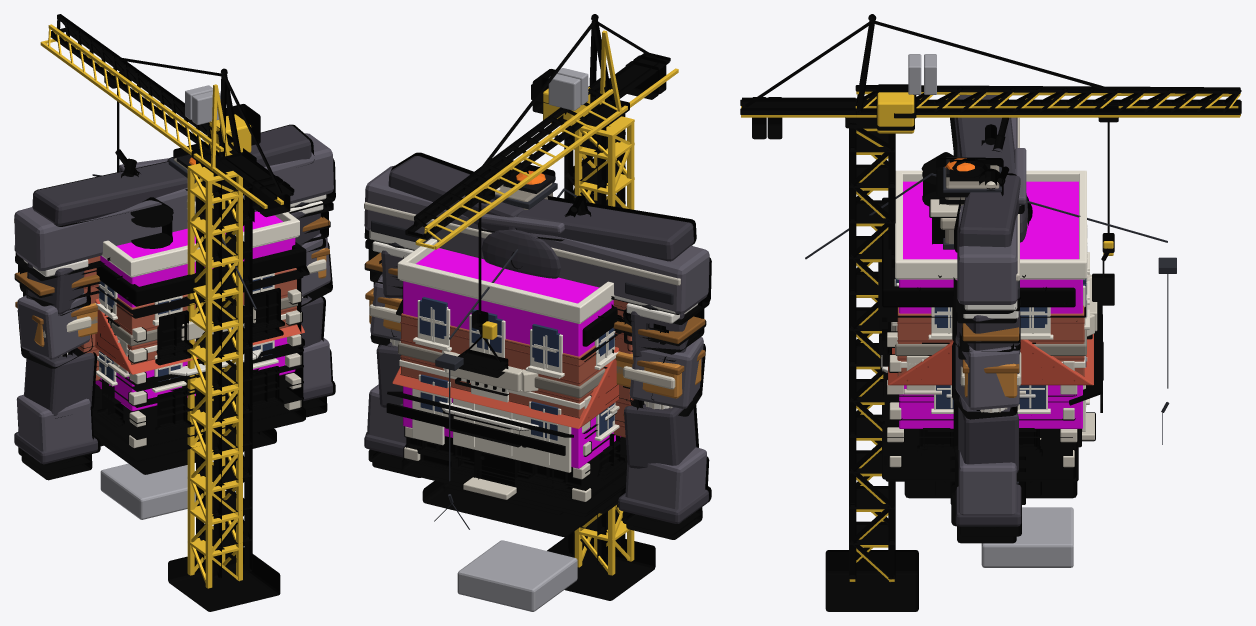
The model's file is ArenaKit.glb.
3 renders of one model, left to right at view 1: azimuth 30°, elevation 25°; view 2: azimuth 150°, elevation 25°; view 3: azimuth 270°, elevation 25°, orthographic. The views are drawn at different scales.
Visible parts, largest first — view 1: Arena_Crane__000000, Arena_Crane__F7C52E, Arena_ForgeGate__5C5864, Arena_ForgeGate__3C3942, Arena_Shop__000000, Arena_House__000000, Arena_Crane__A9A9B0, Arena_Shop__F6F0E2, Arena_Shop__FE01FE, Arena_ForgeGate__000000, Arena_House__DCD5C6, Arena_BullGate__000000 (+13 smaller); view 2: Arena_ForgeGate__3C3942, Arena_ForgeGate__5C5864, Arena_Crane__000000, Arena_Crane__F7C52E, Arena_Shop__F6F0E2, Arena_Shop__000000, Arena_Crane__A9A9B0, Arena_House__000000, Arena_Shop__FE01FE, Arena_House__FE01FE, Arena_Shop__B25C46, Arena_Statue__000000 (+21 smaller); view 3: Arena_Crane__000000, Arena_Shop__000000, Arena_ForgeGate__3C3942, Arena_ForgeGate__5C5864, Arena_Shop__FE01FE, Arena_Crane__F7C52E, Arena_Shop__F6F0E2, Arena_Crane__A9A9B0, Arena_House__C8523C, Arena_House__000000, Arena_House__FE01FE, Arena_House__DCD5C6 (+14 smaller).
Part boxes in pixels (box(x1,y1,x2,y2)): Arena_Crane__000000: box(50, 14, 294, 611); Arena_Crane__F7C52E: box(40, 24, 283, 588); Arena_ForgeGate__5C5864: box(14, 133, 333, 451); Arena_ForgeGate__3C3942: box(14, 125, 332, 464); Arena_Shop__000000: box(92, 197, 306, 461); Arena_House__000000: box(92, 208, 309, 462); Arena_Crane__A9A9B0: box(100, 85, 220, 519); Arena_Shop__F6F0E2: box(98, 212, 299, 354); Arena_Shop__FE01FE: box(95, 211, 295, 411); Arena_ForgeGate__000000: box(15, 124, 335, 465); Arena_House__DCD5C6: box(129, 289, 301, 448); Arena_BullGate__000000: box(15, 149, 333, 480); Arena_ForgeGate__3C3942: box(364, 156, 708, 523); Arena_ForgeGate__5C5864: box(364, 165, 709, 509); Arena_Crane__000000: box(405, 14, 670, 600); Arena_Crane__F7C52E: box(415, 30, 678, 575); Arena_Shop__F6F0E2: box(397, 238, 615, 472); Arena_Shop__000000: box(386, 286, 626, 513); Arena_Crane__A9A9B0: box(457, 68, 588, 611); Arena_House__000000: box(396, 296, 626, 516); Arena_Shop__FE01FE: box(403, 248, 620, 468); Arena_House__FE01FE: box(403, 281, 615, 464); Arena_Shop__B25C46: box(401, 313, 604, 417); Arena_Statue__000000: box(422, 173, 625, 536); Arena_Crane__000000: box(740, 14, 1241, 611); Arena_Shop__000000: box(879, 152, 1102, 479); Arena_ForgeGate__3C3942: box(954, 95, 1027, 526); Arena_ForgeGate__5C5864: box(955, 117, 1026, 515); Arena_Shop__FE01FE: box(899, 181, 1082, 428); Arena_Crane__F7C52E: box(741, 91, 1240, 581); Arena_Shop__F6F0E2: box(892, 170, 1089, 431); Arena_Crane__A9A9B0: box(908, 54, 1073, 567); Arena_House__C8523C: box(888, 334, 1093, 385); Arena_House__000000: box(878, 197, 1103, 481); Arena_House__FE01FE: box(899, 279, 1082, 425); Arena_House__DCD5C6: box(887, 199, 1094, 467).
Size of the model in its own units: 29.43 by 48.67 by 38.19.
